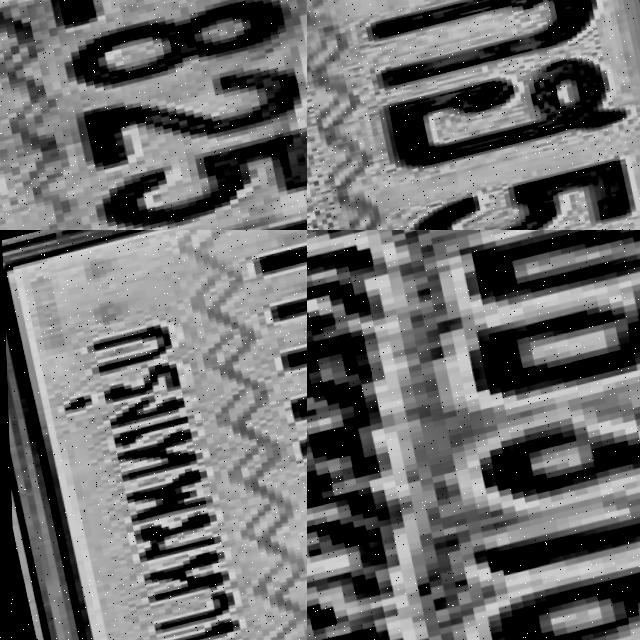license-plate: (307, 230, 640, 640), (0, 230, 307, 640), (307, 0, 640, 230), (0, 0, 307, 230)
